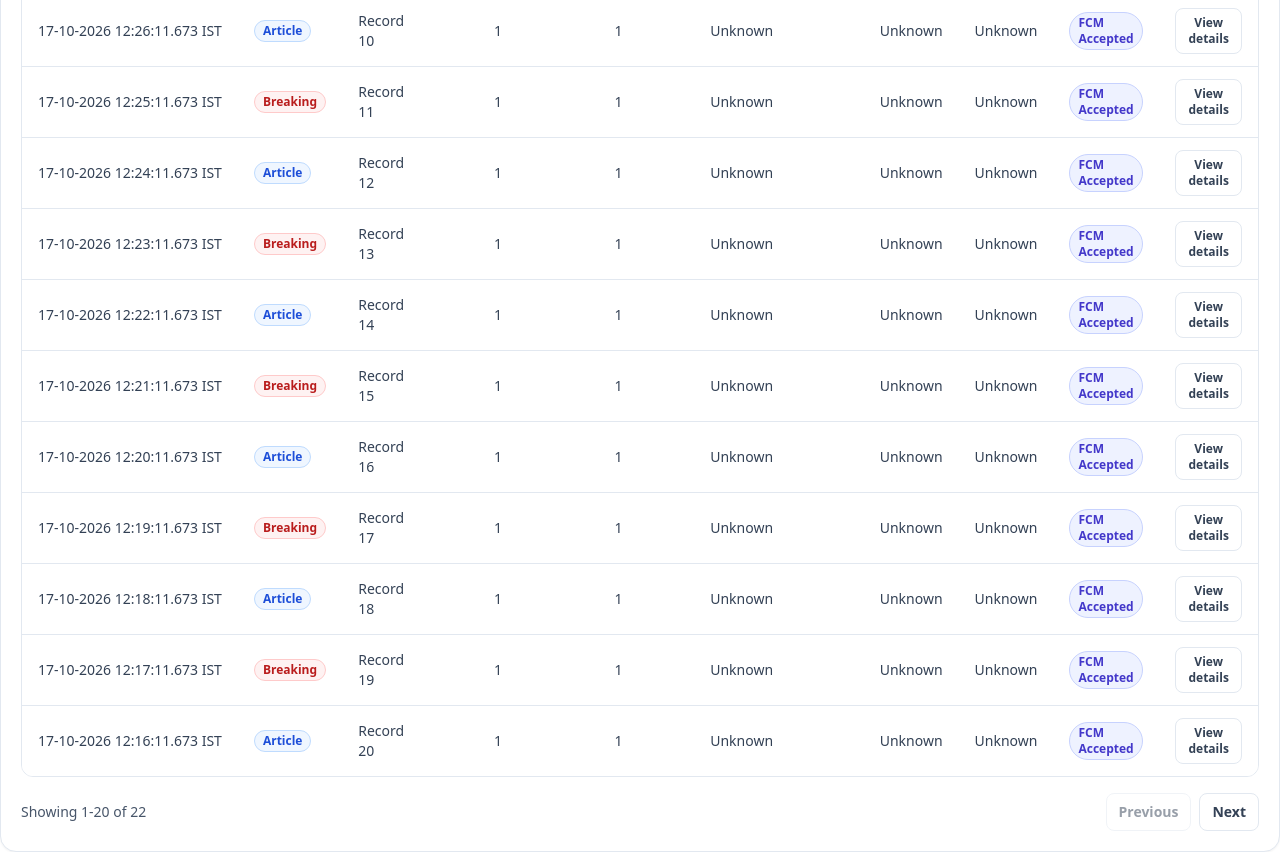
Scenario: PushNotificationsHistory › paginates full push history at 20 records per page
The width and height of the screenshot is (1280, 852).
(page scrolled)
Check: the text "Record 21" is not shown
Check: the text "Showing 1-20 of 22" is shown, box [21, 802, 146, 822]
What coordinates should you click on to do the following:
click the button "Next"
I would click on:
 (1229, 812)
Its box is [1200, 793, 1259, 831].
(page scrolled)
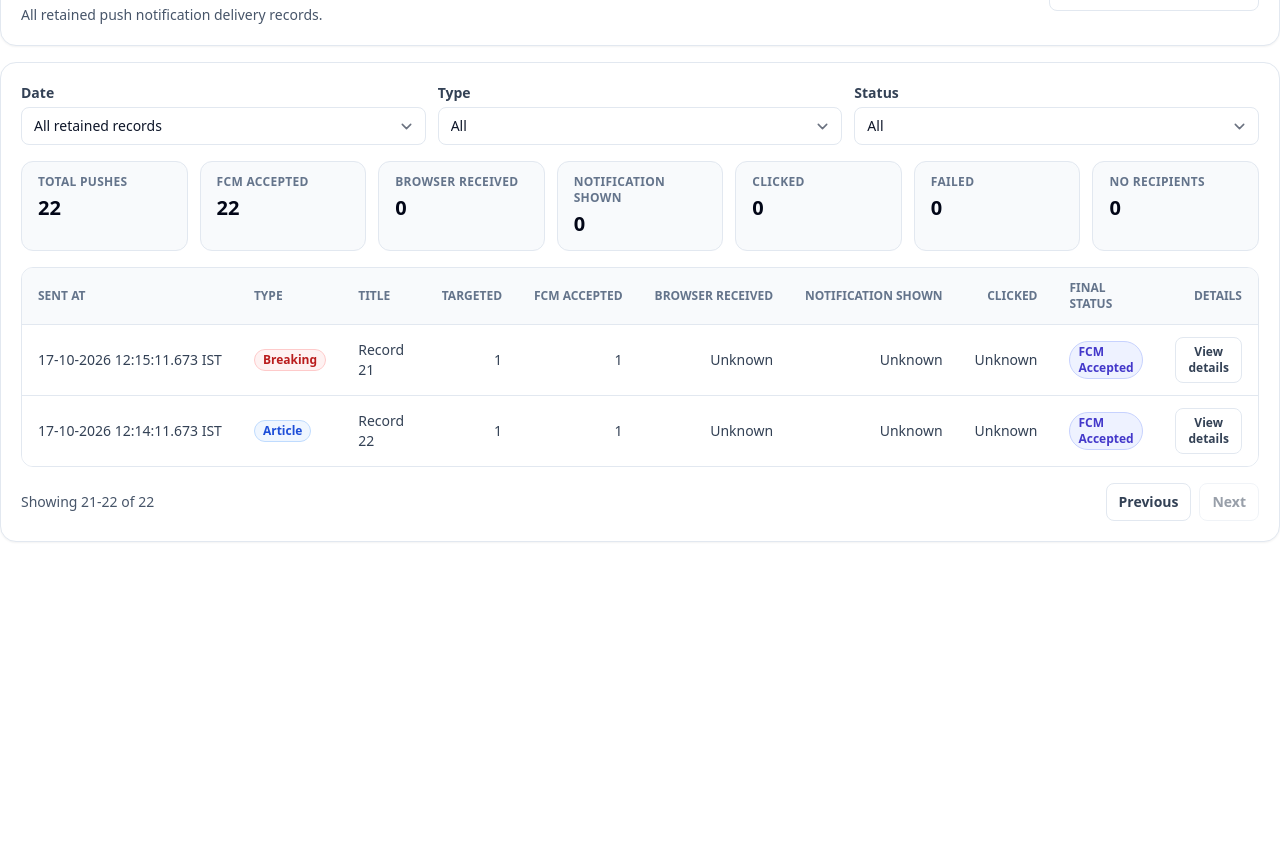
Check: the text "Record 21" is shown, box [358, 340, 410, 380]
Check: the text "Record 22" is shown, box [358, 411, 410, 451]
Check: the text "Showing 21-22 of 22" is shown, box [21, 492, 154, 512]
